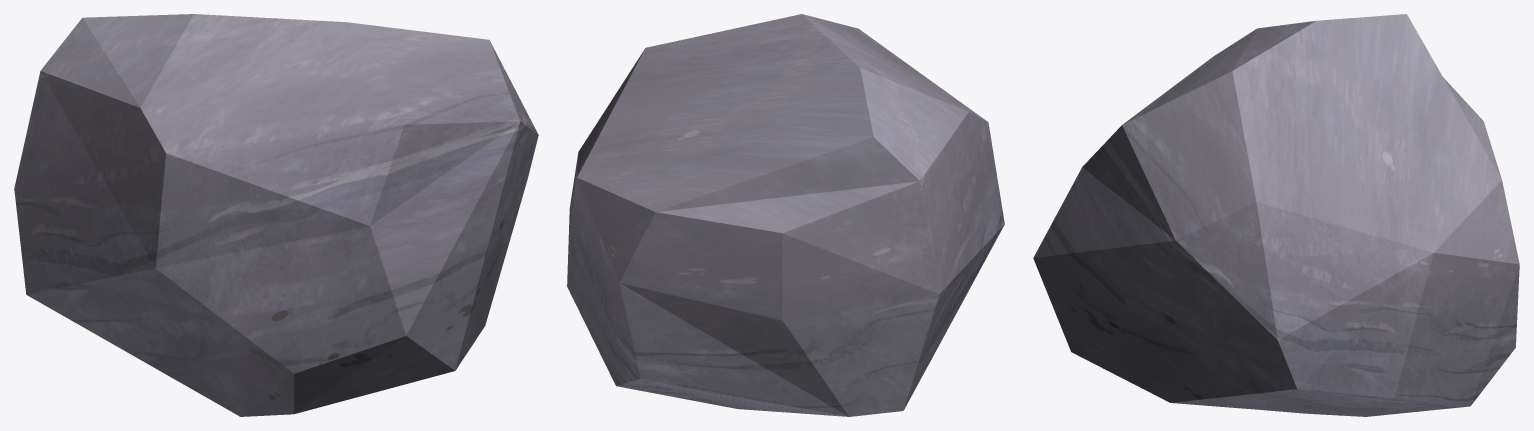
Rendered from rock_2_015.fbx.
3 renders of one model, left to right at view 1: azimuth 30°, elevation 25°; view 2: azimuth 150°, elevation 25°; view 3: azimuth 270°, elevation 25°, orthographic. The views are drawn at different scales.
Visible parts, largest first — view 1: rock 2.015; view 2: rock 2.015; view 3: rock 2.015.
Part boxes in pixels (x1,y1,x2,y2): rock 2.015: [14, 14, 538, 416]; rock 2.015: [567, 14, 1004, 416]; rock 2.015: [1033, 14, 1519, 416].
Size of the model in its own units: 150 by 119 by 148.
